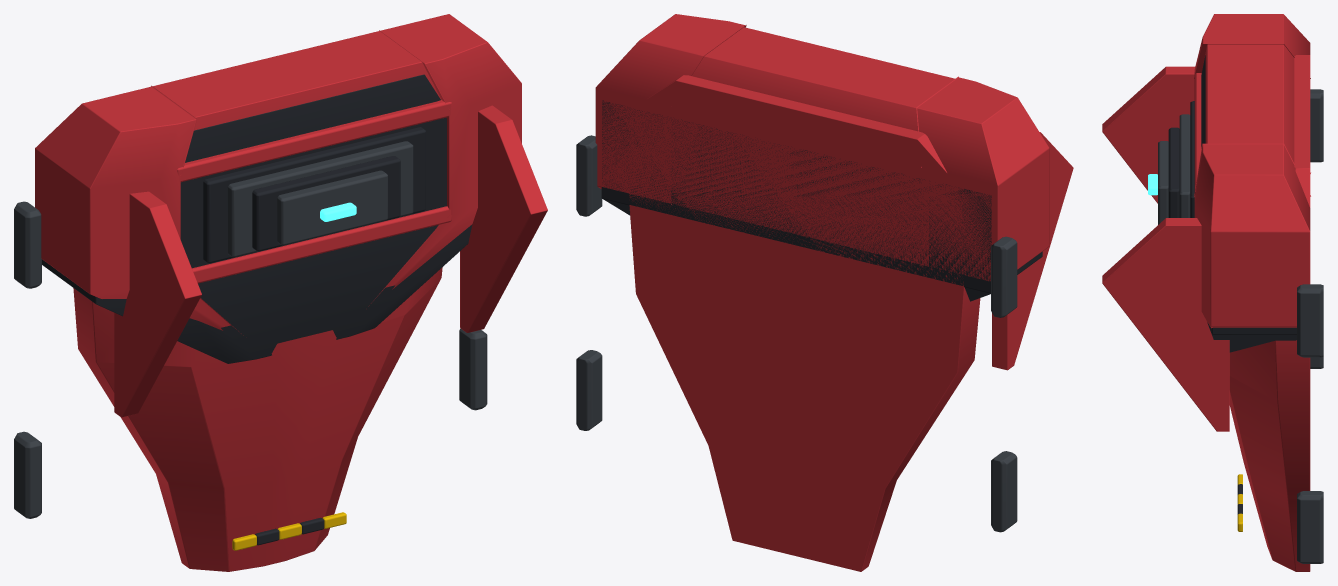
File: BodyBack_Set09_Mantis.fbx
3 views of the same model, side by side, from view 1: azimuth 30°, elevation 25°; view 2: azimuth 150°, elevation 25°; view 3: azimuth 270°, elevation 25° (orthographic). The views are drawn at different scales.
Parts seen in each view (by area): view 1: BodyBack_Set09_Mantis; view 2: BodyBack_Set09_Mantis; view 3: BodyBack_Set09_Mantis.
Part boxes in pixels (left/top/right/bottom): BodyBack_Set09_Mantis: left=14, top=14, right=547, bottom=571; BodyBack_Set09_Mantis: left=576, top=14, right=1073, bottom=571; BodyBack_Set09_Mantis: left=1102, top=14, right=1323, bottom=571.
Bounding box in the file's own units: 1.07 × 1.1 × 0.4945.
